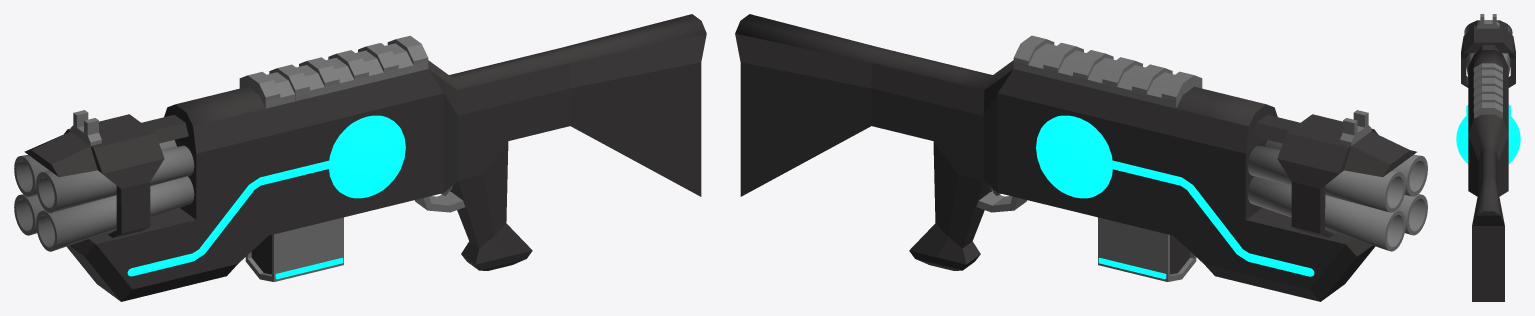
The model's file is SciFi_Gun.fbx.
The picture shows the model from 3 angles, left to right: view 1: azimuth 30°, elevation 25°; view 2: azimuth 150°, elevation 25°; view 3: azimuth 270°, elevation 25°; orthographic projection. The views are drawn at different scales.
Visible parts, largest first — view 1: Cube, Cylinder, Cube.003, Cube.004, Sphere, Cube.005, Cylinder.001; view 2: Cube, Cylinder, Cube.003, Cube.004, Sphere, Cube.005, Cylinder.001; view 3: Cube, Cube.003, Cube.004, Sphere, Cylinder, Cylinder.001.
Boxes of the visible parts, <box> form: Cube: <box>66,14,706,301</box>; Cylinder: <box>14,140,194,251</box>; Cube.003: <box>24,110,188,237</box>; Cube.004: <box>239,35,428,108</box>; Sphere: <box>329,115,405,198</box>; Cube.005: <box>245,217,343,281</box>; Cylinder.001: <box>127,160,333,276</box>; Cube: <box>735,14,1375,301</box>; Cylinder: <box>1248,140,1427,251</box>; Cube.003: <box>1253,110,1416,237</box>; Cube.004: <box>1013,35,1202,108</box>; Sphere: <box>1036,115,1112,198</box>; Cube.005: <box>1098,217,1196,281</box>; Cylinder.001: <box>1107,160,1314,276</box>; Cube: <box>1468,50,1508,301</box>; Cube.003: <box>1461,14,1515,87</box>; Cube.004: <box>1473,63,1502,118</box>; Sphere: <box>1456,114,1520,163</box>; Cylinder: <box>1464,24,1512,77</box>; Cylinder.001: <box>1466,105,1510,115</box>.
Bounding box in the file's own units: 2136 × 770 × 321.
